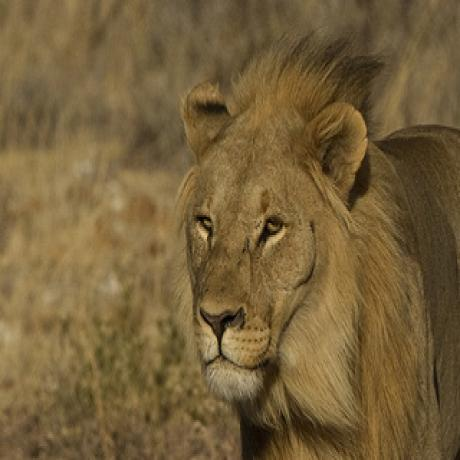Lion: (173, 60, 460, 460)
